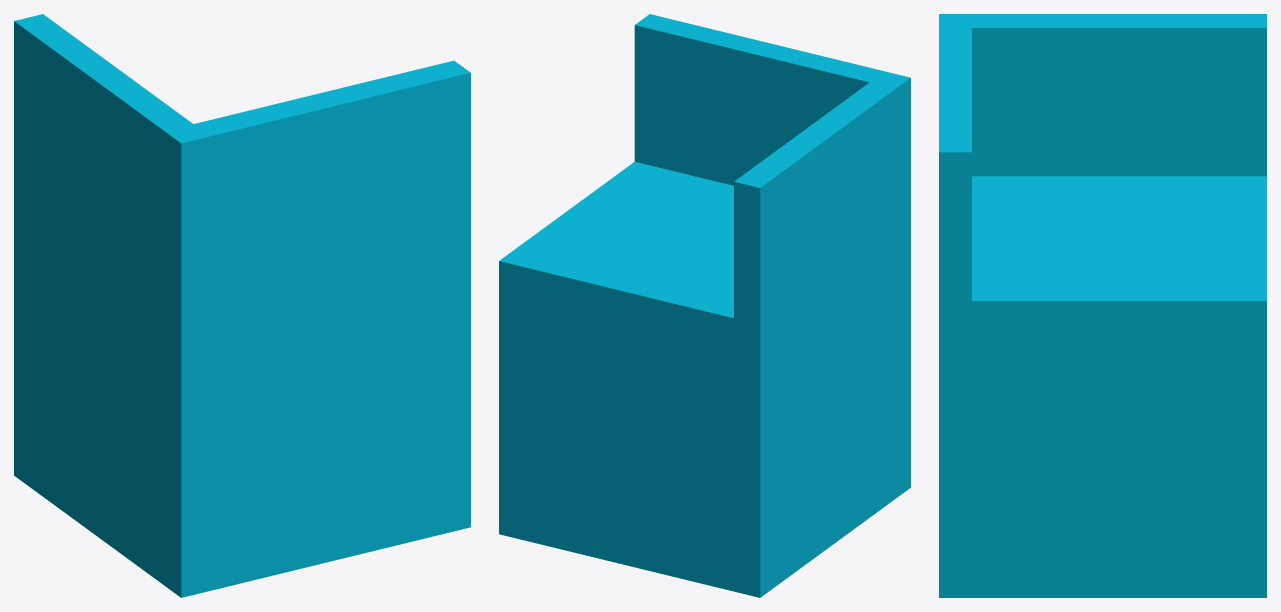
The picture shows the model from 3 angles, left to right: view 1: azimuth 30°, elevation 25°; view 2: azimuth 150°, elevation 25°; view 3: azimuth 270°, elevation 25°; orthographic projection. The views are drawn at different scales.
Parts seen in each view (by area): view 1: Lzi; view 2: Lzi; view 3: Lzi.
Part boxes in pixels (left/top/right/bottom): Lzi: left=14, top=14, right=470, bottom=597; Lzi: left=499, top=14, right=910, bottom=597; Lzi: left=939, top=14, right=1266, bottom=597.
Size of the model in its own units: 2000 by 3000 by 2000.
